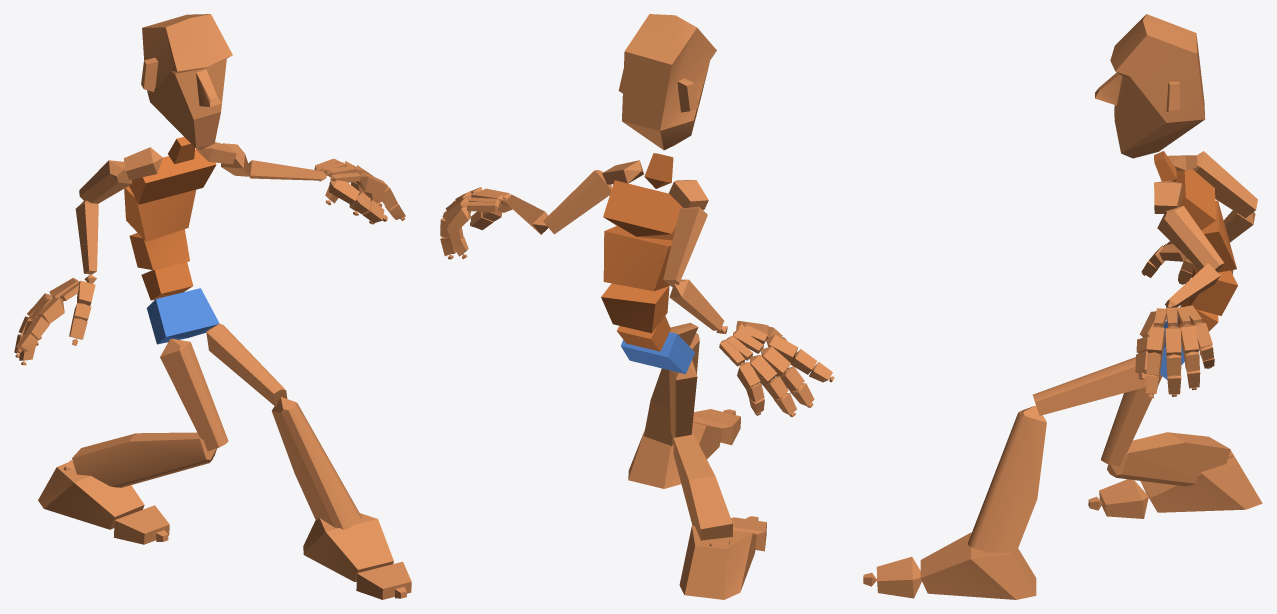
3 views of the same model, side by side, from view 1: azimuth 30°, elevation 25°; view 2: azimuth 150°, elevation 25°; view 3: azimuth 270°, elevation 25° (orthographic). The views are drawn at different scales.
Visible parts, largest first — view 1: BOPED_Head, BOPED_R_leg, BOPED_L_leg, BOPED_R_foot, BOPED_R_foot01, BOPED_R_legup, Bone01, Bone04, Bone05, BOPED_L_legup, Bone03, BOPED_R_foot_toe04 (+9 smaller); view 2: BOPED_Head, BOPED_R_foot, BOPED_R_leg, Bone04, Bone05, BOPED_R_foot01, Bone03, BOPED_R_arm_upper, BOPED_L_arm_upper, BOPED_L_leg, BOPED_R_legup, Bone01 (+8 smaller); view 3: BOPED_Head, BOPED_L_leg, BOPED_R_foot01, BOPED_R_leg, BOPED_R_foot, BOPED_L_legup, BOPED_L_arm_upper, BOPED_R_legup, BOPED_R_arm_upper, Bone05, BOPED_R_foot_toe01, BOPED_R_foot_toe04 (+5 smaller).
Part boxes in pixels (box(x1,y1,x2,y2)): BOPED_Head: box(141, 14, 232, 149); BOPED_R_leg: box(72, 432, 216, 487); BOPED_L_leg: box(272, 397, 362, 529); BOPED_R_foot: box(38, 460, 144, 529); BOPED_R_foot01: box(303, 513, 393, 581); BOPED_R_legup: box(160, 339, 228, 451); Bone01: box(146, 288, 219, 344); Bone04: box(124, 186, 196, 241); Bone05: box(129, 149, 216, 204); BOPED_L_legup: box(206, 323, 287, 406); Bone03: box(129, 229, 189, 270); BOPED_R_foot_toe04: box(356, 561, 411, 599); BOPED_Head: box(618, 14, 716, 150); BOPED_R_foot: box(679, 526, 756, 599); BOPED_R_leg: box(673, 434, 732, 540); Bone04: box(603, 226, 672, 291); Bone05: box(603, 180, 683, 240); BOPED_R_foot01: box(628, 421, 722, 488); Bone03: box(601, 283, 669, 333); BOPED_R_arm_upper: box(663, 206, 707, 287); BOPED_L_arm_upper: box(543, 170, 611, 234); BOPED_L_leg: box(644, 333, 699, 446); BOPED_R_legup: box(669, 360, 697, 438); Bone01: box(621, 332, 695, 374); BOPED_Head: box(1095, 14, 1205, 158); BOPED_L_leg: box(968, 405, 1046, 555); BOPED_R_foot01: box(920, 532, 1036, 599); BOPED_R_leg: box(1107, 432, 1230, 486); BOPED_R_foot: box(1140, 451, 1262, 512); BOPED_L_legup: box(1033, 357, 1150, 415); BOPED_L_arm_upper: box(1157, 206, 1224, 271); BOPED_R_legup: box(1101, 353, 1162, 466); BOPED_R_arm_upper: box(1193, 151, 1257, 217); Bone05: box(1175, 169, 1215, 230); BOPED_R_foot_toe01: box(1099, 479, 1148, 518); BOPED_R_foot_toe04: box(876, 556, 921, 598).
Bounding box in the file's own units: 130 × 165 × 114.
